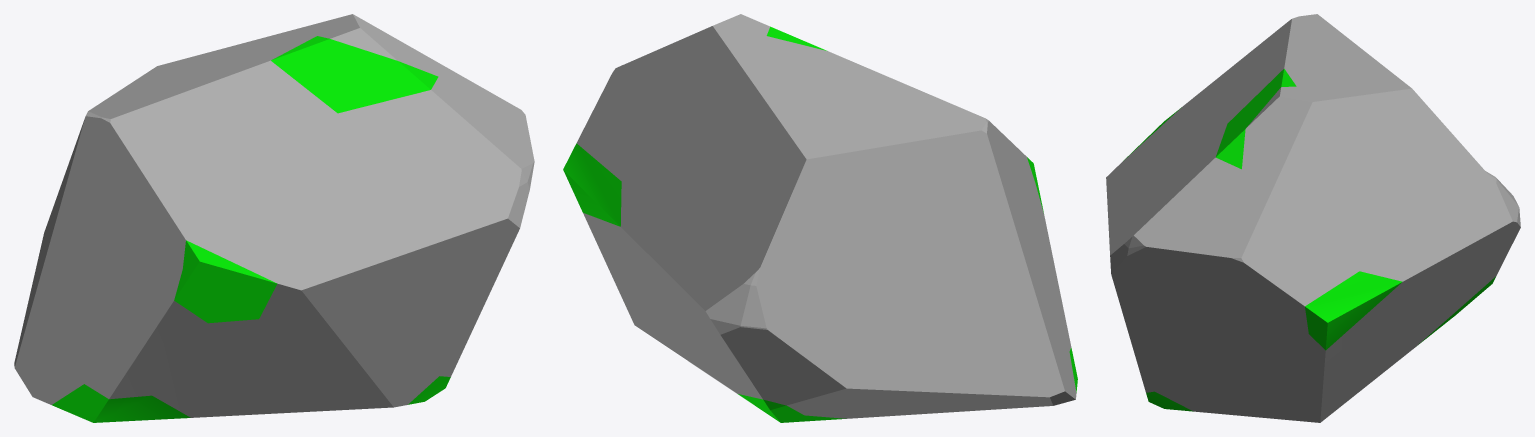
The model's file is Moss_Rock_2.fbx.
3 views of the same model, side by side, from view 1: azimuth 30°, elevation 25°; view 2: azimuth 150°, elevation 25°; view 3: azimuth 270°, elevation 25° (orthographic). The views are drawn at different scales.
Parts seen in each view (by area): view 1: pasted__Rock_9; view 2: pasted__Rock_9; view 3: pasted__Rock_9.
Boxes of the visible parts, x1,y1,x2,y2 form: pasted__Rock_9: (14,14,534,422); pasted__Rock_9: (563,14,1077,422); pasted__Rock_9: (1106,14,1520,422).
Bounding box in the file's own units: 149 × 97.19 × 119.
